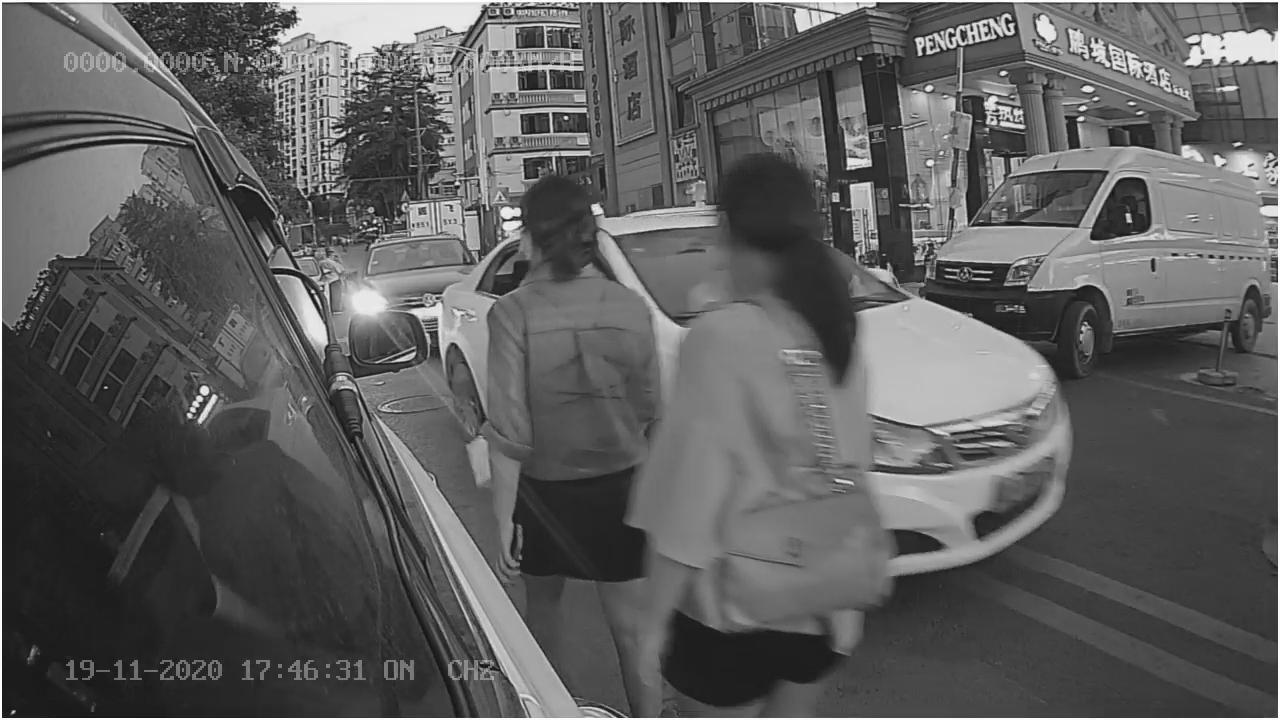person: (486, 176, 664, 589)
